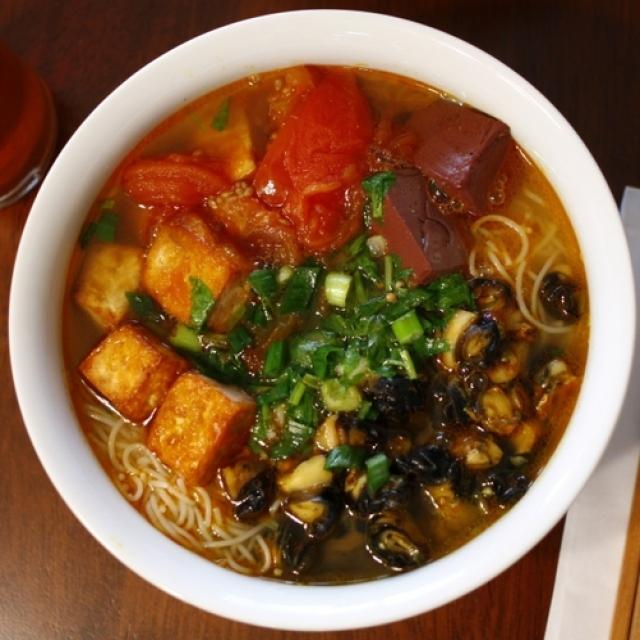面条主食: (32, 33, 616, 599)
